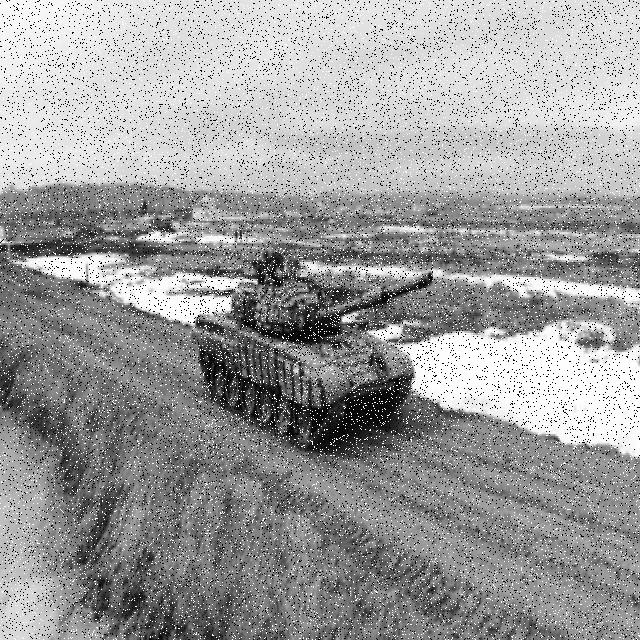MIL_MBT: (193, 247, 433, 457)
